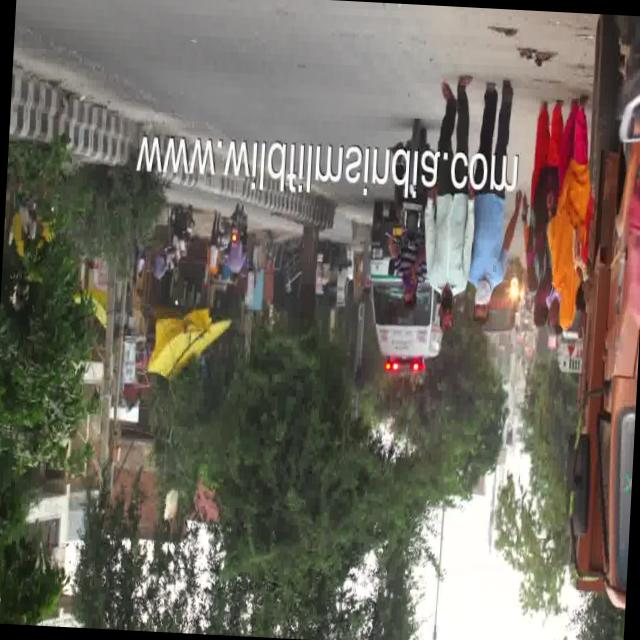ambulance: (355, 306, 444, 379)
